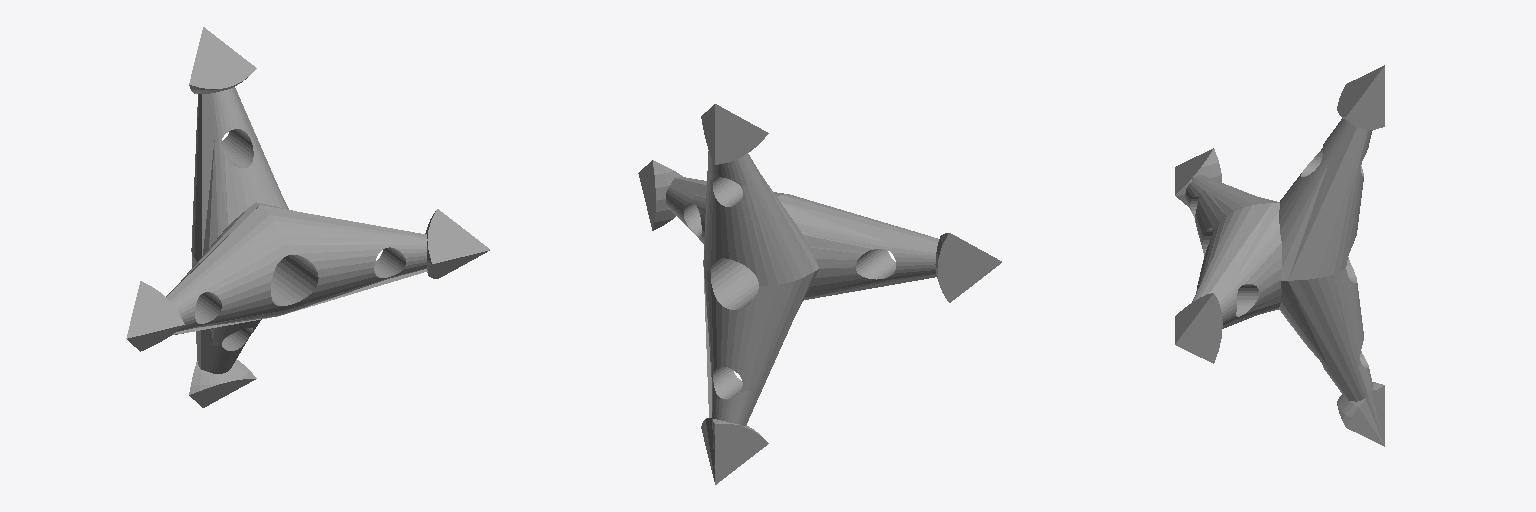
The model's file is organic2.obj.
3 renders of one model, left to right at view 1: azimuth 30°, elevation 25°; view 2: azimuth 150°, elevation 25°; view 3: azimuth 270°, elevation 25°, orthographic.
Parts seen in each view (by area): view 1: Cone.001_Cone.002; view 2: Cone.001_Cone.002; view 3: Cone.001_Cone.002.
Part boxes in pixels (bbox=[...]): Cone.001_Cone.002: bbox=[126, 27, 489, 407]; Cone.001_Cone.002: bbox=[638, 104, 1001, 484]; Cone.001_Cone.002: bbox=[1175, 65, 1384, 446].
Bounding box in the file's own units: 4 × 4 × 2.